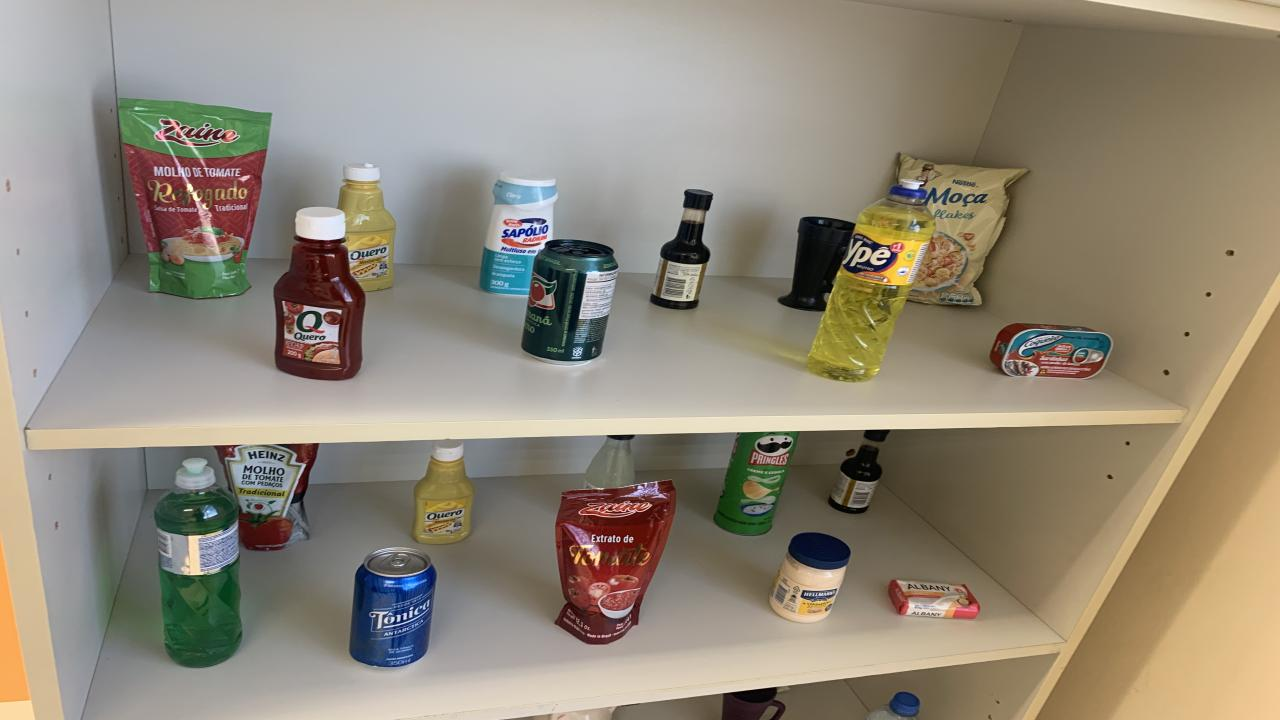Cleaner-Cleanup_Items: (480, 172, 558, 296)
Detergent-Cleanup_Items: (808, 178, 935, 382), (155, 458, 242, 668)
English_Sauce-Pantry_Items: (650, 189, 712, 309), (830, 429, 890, 514)
Flakes-Snacks: (898, 154, 1028, 306)
Guarana_Can-Drinks: (522, 238, 618, 362)
Ketchup-Pantry_Items: (275, 206, 365, 381)
Mayonnaise-Pantry_Items: (770, 532, 850, 622)
Mustard-Pantry_Items: (338, 163, 395, 291), (412, 441, 475, 544)
Pringles-Snacks: (715, 431, 798, 536)
Soap-Cleanup_Items: (888, 579, 980, 619)
Soda-Drinks: (582, 435, 635, 489)
Tomato_Sauce-Pantry_Items: (118, 98, 272, 298), (555, 480, 675, 645), (215, 444, 318, 551)
Tonic-Drinks: (350, 548, 438, 668)
Tuna_Can-Pantry_Items: (990, 324, 1112, 379)
Water_Bottle-Drinks: (865, 692, 920, 720)
